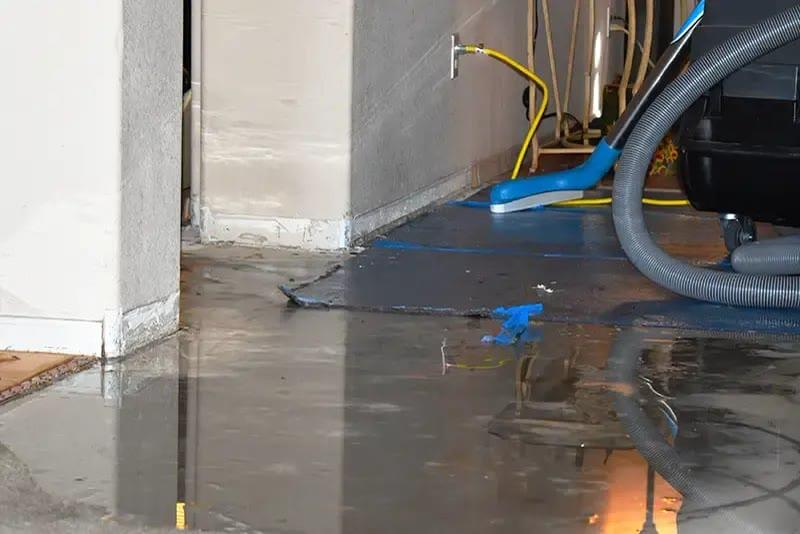water accumulation: (1, 245, 800, 533)
